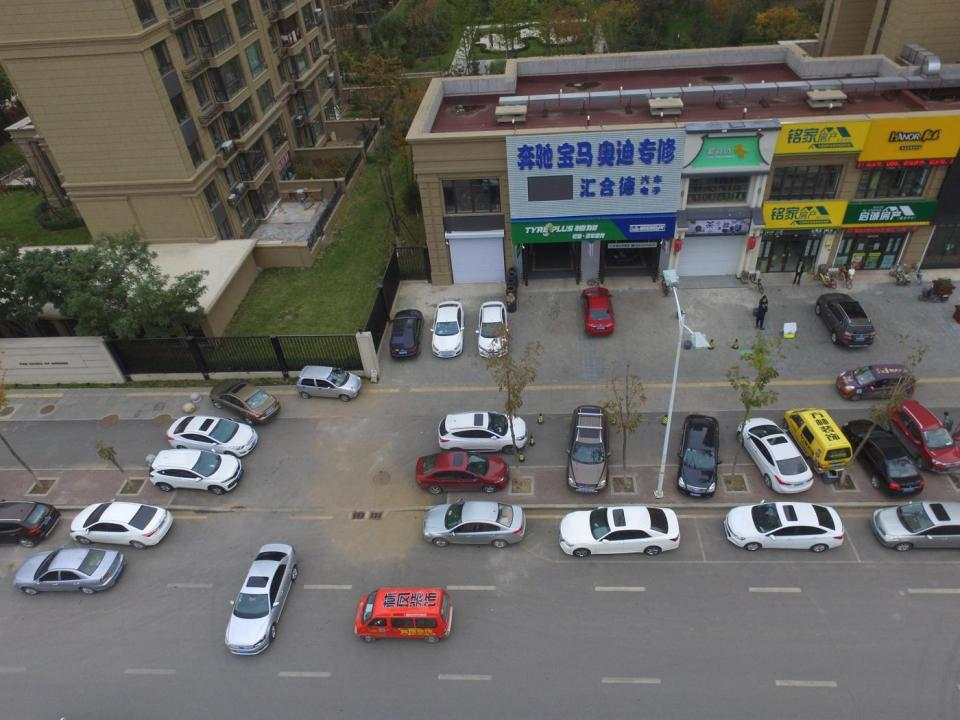car: (224, 545, 298, 658), (725, 500, 845, 553), (846, 420, 925, 499), (559, 506, 680, 557), (738, 416, 812, 494), (888, 399, 960, 473), (68, 500, 175, 548), (420, 500, 526, 548), (12, 551, 127, 593), (872, 502, 960, 552), (417, 449, 511, 495), (166, 415, 258, 462), (149, 449, 243, 493), (437, 411, 528, 456), (564, 406, 610, 494), (678, 414, 721, 497), (815, 292, 876, 348), (211, 378, 281, 425), (0, 496, 60, 545), (837, 365, 916, 401), (296, 364, 362, 401), (475, 302, 510, 358), (580, 288, 617, 337), (387, 309, 423, 359), (434, 300, 464, 358)
van: (352, 590, 458, 640), (784, 406, 850, 472)
